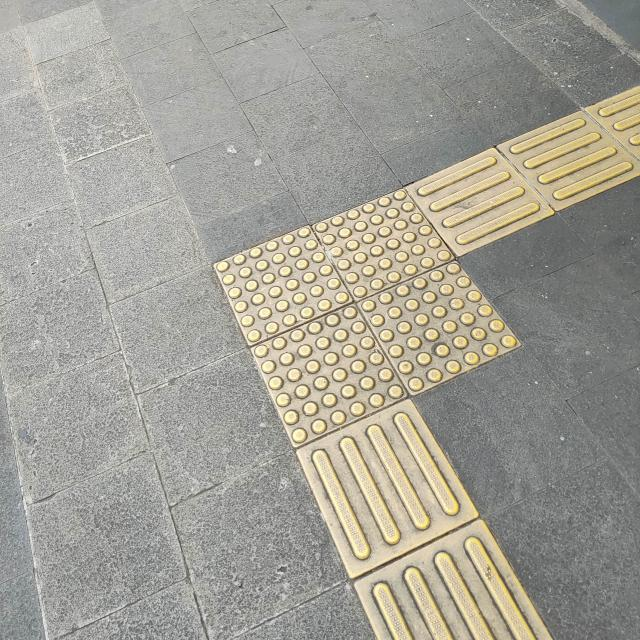kanan: (149, 83, 640, 488)
